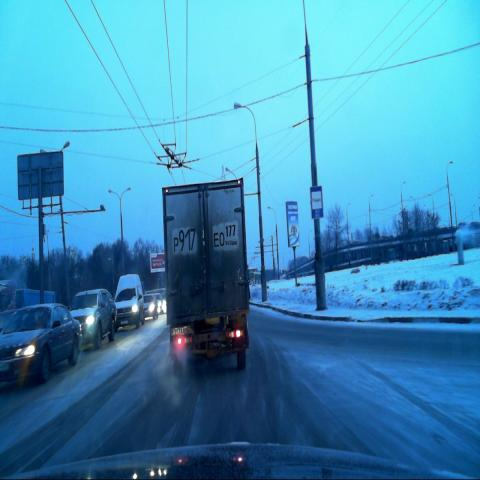7_15: (310, 185, 324, 217)
